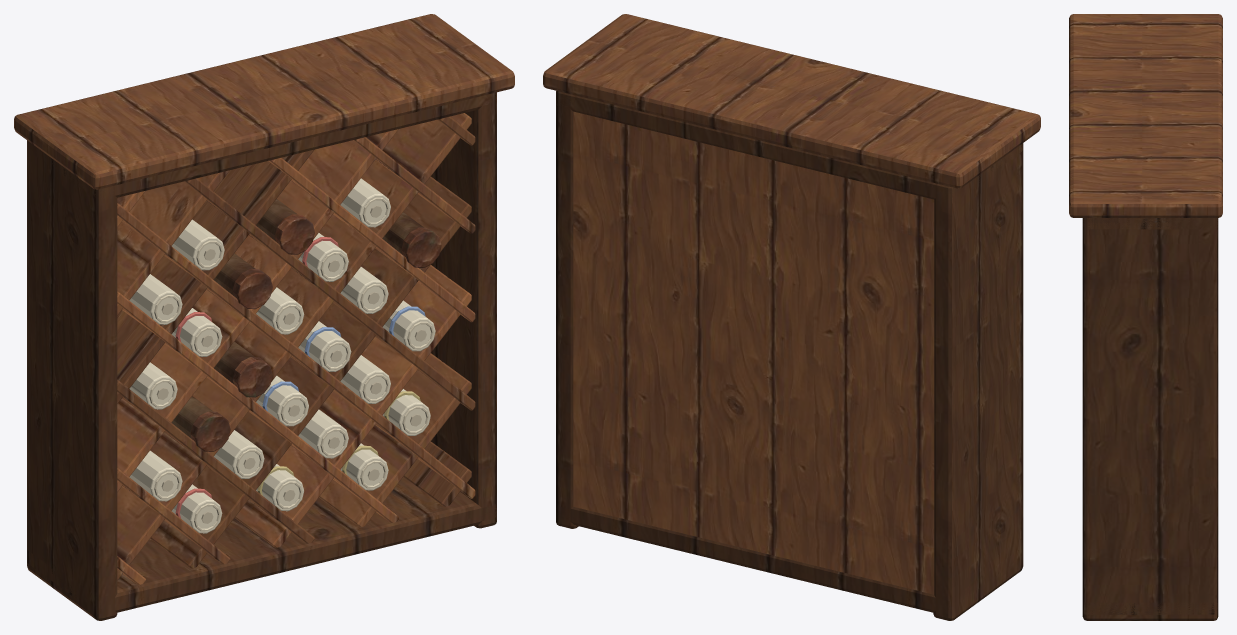
Rendered from hm_scroll_lattice.glb.
3 views of the same model, side by side, from view 1: azimuth 30°, elevation 25°; view 2: azimuth 150°, elevation 25°; view 3: azimuth 270°, elevation 25° (orthographic). The views are drawn at different scales.
Visible parts, largest first — view 1: model; view 2: model; view 3: model.
Boxes of the visible parts, box(x1,y1,x2,y2) form: model: box(14, 14, 514, 620); model: box(543, 14, 1040, 620); model: box(1069, 14, 1222, 620).
Size of the model in its own units: 1 by 1.03 by 0.34.
13 materials, 6 textured.
